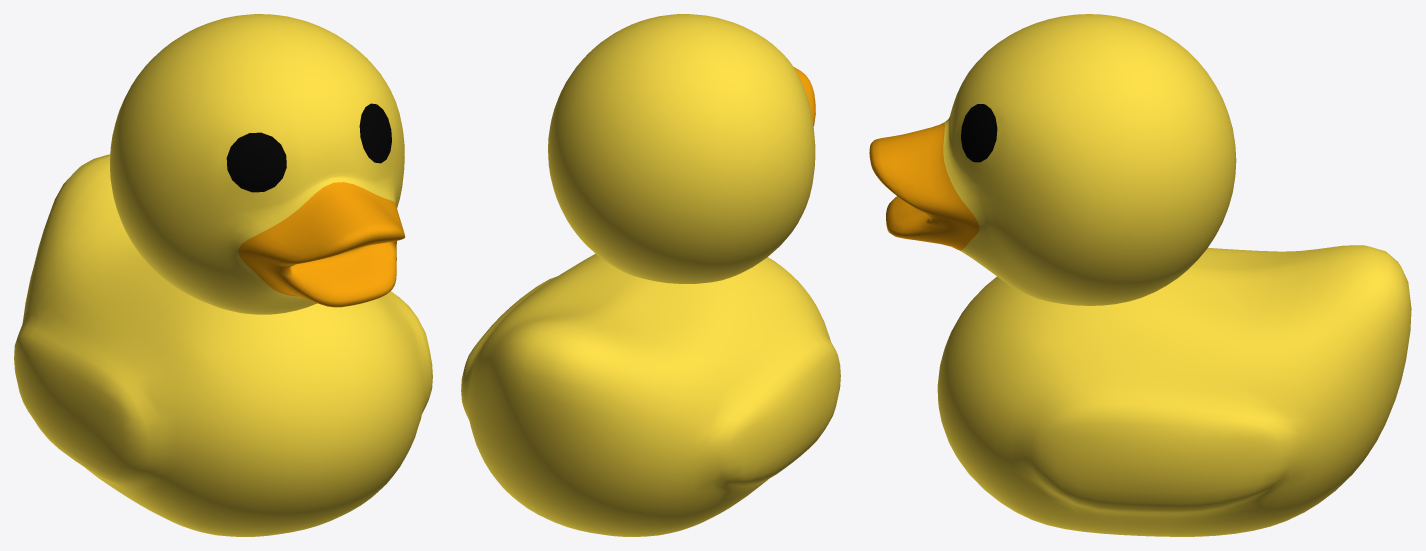
Rendered from Duck.obj.
3 renders of one model, left to right at view 1: azimuth 30°, elevation 25°; view 2: azimuth 150°, elevation 25°; view 3: azimuth 270°, elevation 25°, orthographic. The views are drawn at different scales.
Parts seen in each view (by area): view 1: Duck; view 2: Duck; view 3: Duck.
Boxes of the visible parts, box(x1,y1,x2,y2) form: Duck: box(14, 14, 432, 536); Duck: box(461, 14, 840, 536); Duck: box(869, 14, 1411, 536).
Bounding box in the file's own units: 4.4 × 6.19 × 6.33.
